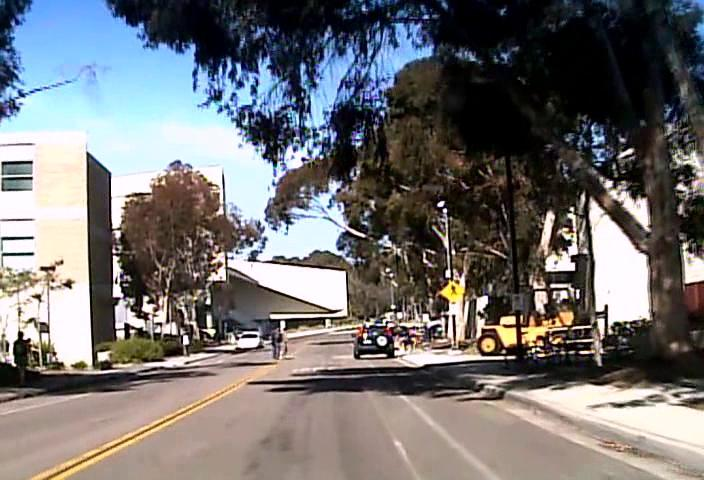pedestrianCrossing: (439, 279, 465, 303)
